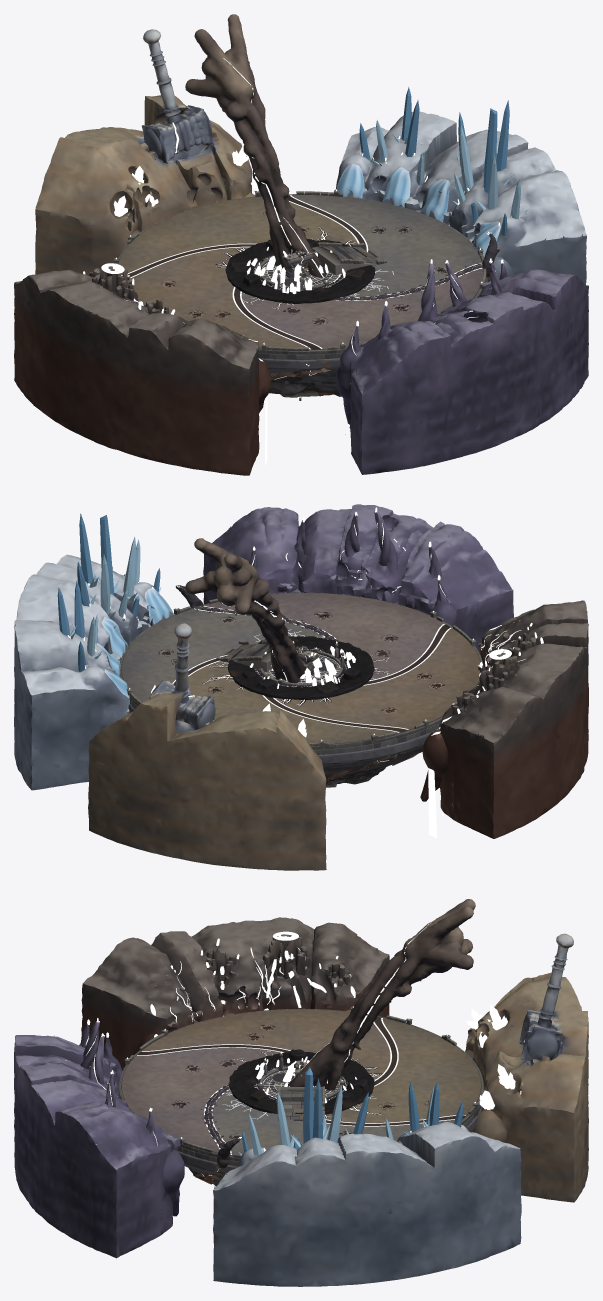
File: smith_heart_heart_kit_components.glb
3 renders of one model, top to bottom at view 1: azimuth 30°, elevation 25°; view 2: azimuth 150°, elevation 25°; view 3: azimuth 270°, elevation 25°, orthographic. The views are drawn at different scales.
Visible parts, largest first — view 1: Kit_LandmarkHeat, Kit_LandmarkBreath, Kit_LandmarkQuench, Kit_LandmarkHammer, Kit_HeartRoot, Kit_QuarterQuench, Kit_QuarterHammer, Kit_QuarterBreath, Kit_QuarterHeat, Kit_CoreBed, Kit_AnvilKeelBreath, Kit_HeartBridge (+6 smaller); view 2: Kit_LandmarkHammer, Kit_LandmarkHeat, Kit_LandmarkQuench, Kit_LandmarkBreath, Kit_QuarterHeat, Kit_QuarterBreath, Kit_QuarterQuench, Kit_HeartRoot, Kit_CoreBed, Kit_QuarterHammer, Kit_AnvilKeelHammer, Kit_AnvilFloorHammer (+6 smaller); view 3: Kit_LandmarkQuench, Kit_LandmarkBreath, Kit_LandmarkHeat, Kit_LandmarkHammer, Kit_QuarterBreath, Kit_HeartRoot, Kit_QuarterHammer, Kit_QuarterHeat, Kit_QuarterQuench, Kit_CoreBed, Kit_AnvilFloorBreath, Kit_AnvilFloorHammer (+4 smaller).
Part boxes in pixels (x1,y1,x2,y2): Kit_LandmarkHeat: (14, 263, 271, 475); Kit_LandmarkBreath: (336, 258, 588, 474); Kit_LandmarkQuench: (335, 87, 586, 284); Kit_LandmarkHammer: (35, 29, 258, 275); Kit_HeartRoot: (185, 14, 326, 277); Kit_QuarterQuench: (289, 195, 481, 297); Kit_QuarterHammer: (118, 196, 359, 276); Kit_QuarterBreath: (240, 267, 483, 349); Kit_QuarterHeat: (127, 246, 311, 349); Kit_CoreBed: (225, 238, 375, 303); Kit_AnvilKeelBreath: (268, 277, 490, 397); Kit_HeartBridge: (312, 242, 387, 275); Kit_LandmarkHammer: (88, 623, 326, 870); Kit_LandmarkHeat: (420, 600, 588, 838); Kit_LandmarkQuench: (14, 513, 173, 790); Kit_LandmarkBreath: (203, 504, 513, 652); Kit_QuarterHeat: (273, 627, 480, 730); Kit_QuarterBreath: (203, 593, 445, 681); Kit_QuarterQuench: (122, 608, 327, 702); Kit_HeartRoot: (185, 538, 305, 683); Kit_CoreBed: (227, 636, 374, 699); Kit_QuarterHammer: (188, 660, 400, 744); Kit_AnvilKeelHammer: (318, 741, 408, 784); Kit_AnvilFloorHammer: (175, 660, 406, 754); Kit_LandmarkQuench: (213, 1067, 521, 1286); Kit_LandmarkBreath: (14, 1018, 184, 1258); Kit_LandmarkHeat: (81, 917, 389, 1070); Kit_LandmarkHammer: (465, 933, 588, 1202); Kit_QuarterBreath: (120, 1047, 284, 1152); Kit_HeartRoot: (287, 899, 475, 1090); Kit_QuarterHammer: (325, 1017, 480, 1123); Kit_QuarterHeat: (141, 1009, 392, 1081); Kit_QuarterQuench: (211, 1089, 454, 1155); Kit_CoreBed: (229, 1049, 374, 1114); Kit_AnvilFloorBreath: (119, 1046, 287, 1162); Kit_AnvilFloorHammer: (326, 1015, 483, 1124).
Size of the model in its own units: 192 by 115 by 192.
